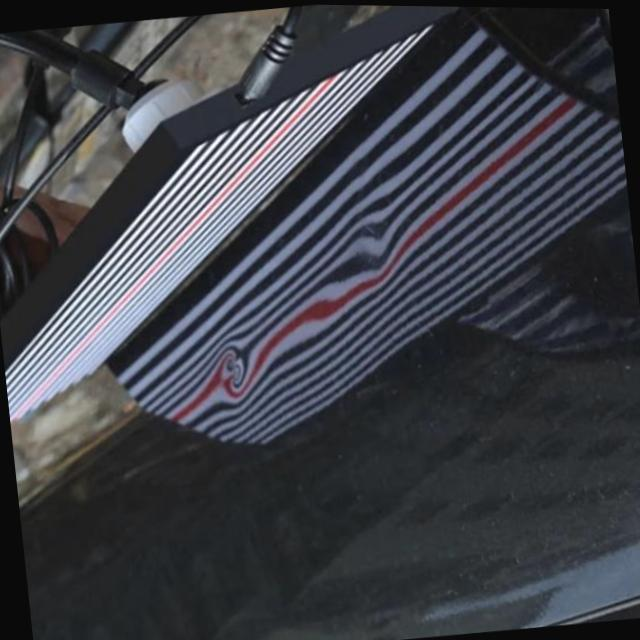PDR-Dent: (280, 184, 431, 344), (179, 322, 279, 432)
